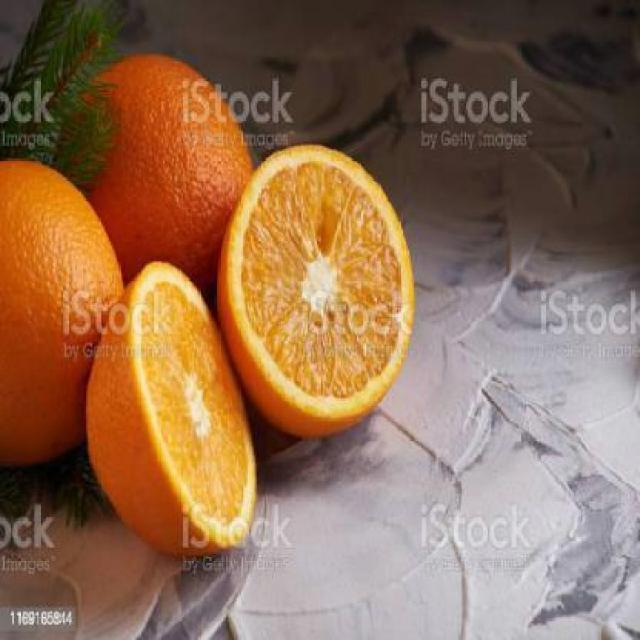Jeruk Sudah Matang: (49, 51, 252, 356), (0, 156, 126, 472)
